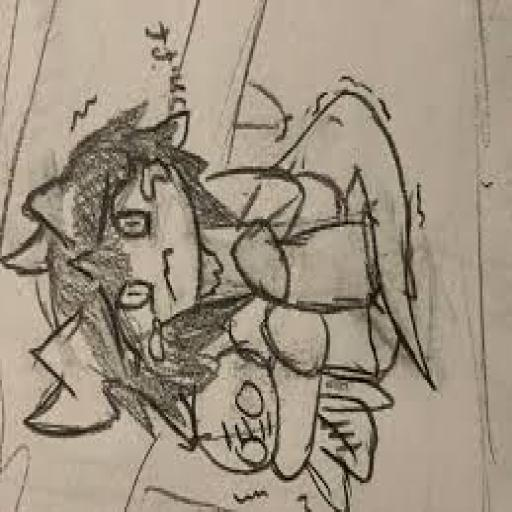person: (7, 87, 461, 512)
